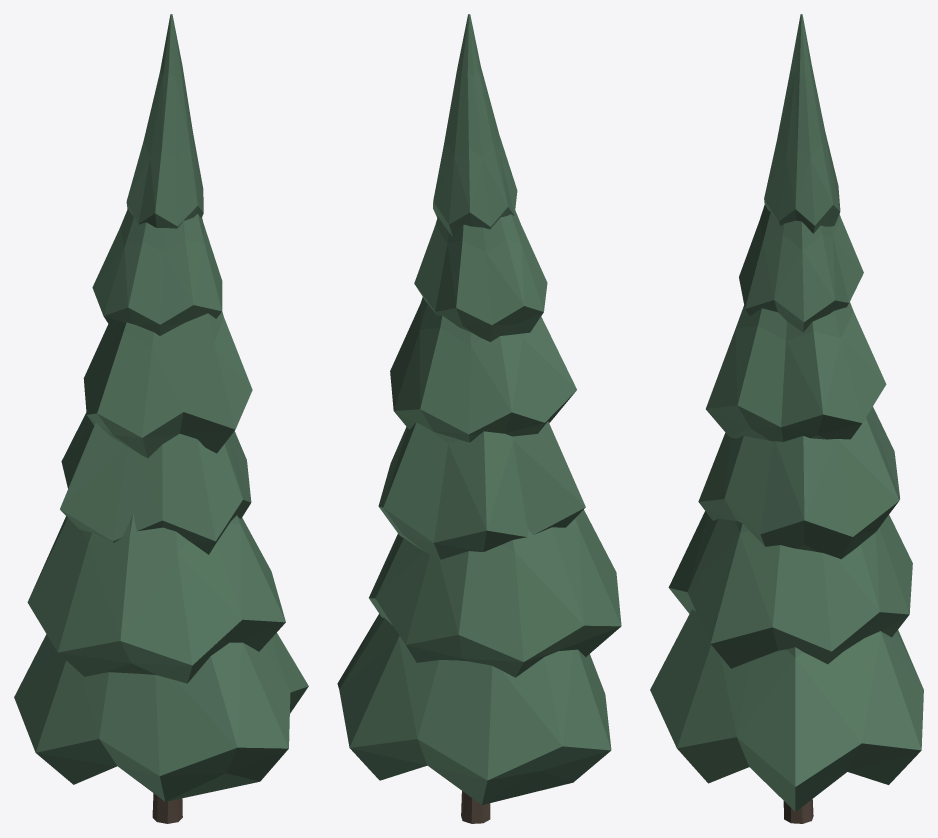
The model's file is spruce.fbx.
The picture shows the model from 3 angles, left to right: view 1: azimuth 30°, elevation 25°; view 2: azimuth 150°, elevation 25°; view 3: azimuth 270°, elevation 25°; orthographic projection.
Visible parts, largest first — view 1: spruce; view 2: spruce; view 3: spruce.
Part boxes in pixels (x1,y1,x2,y2): spruce: (14,14,308,823); spruce: (337,14,621,823); spruce: (650,14,923,823).
Bounding box in the file's own units: 5 × 14 × 4.31.
